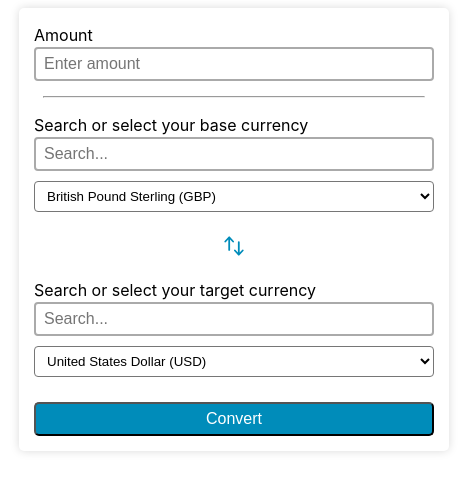
Test case: CurrencyConverter › should be able to provide validation if an no number is submitted
Select "British Pound Sterling (GBP)" in the dropdown with test id "base-currency". click: coordinates (234, 196)
box: [34, 181, 434, 212]
Select "United States Dollar (USD)" in the dropdown with test id "target-currency". click: coordinates (234, 362)
box: [34, 346, 434, 377]
Click the button "Convert". click: coordinates (234, 419)
box: [34, 402, 434, 436]
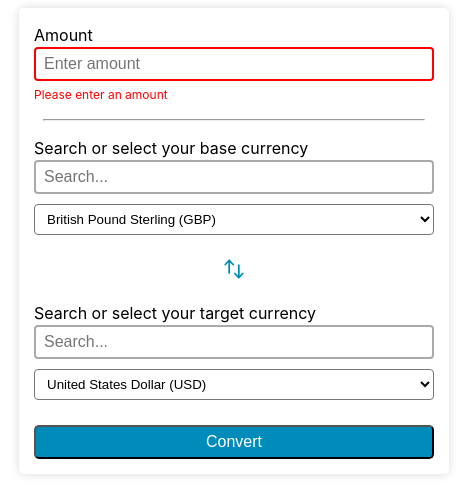
Now the text "Please enter an amount" is shown, box [34, 87, 168, 102]
